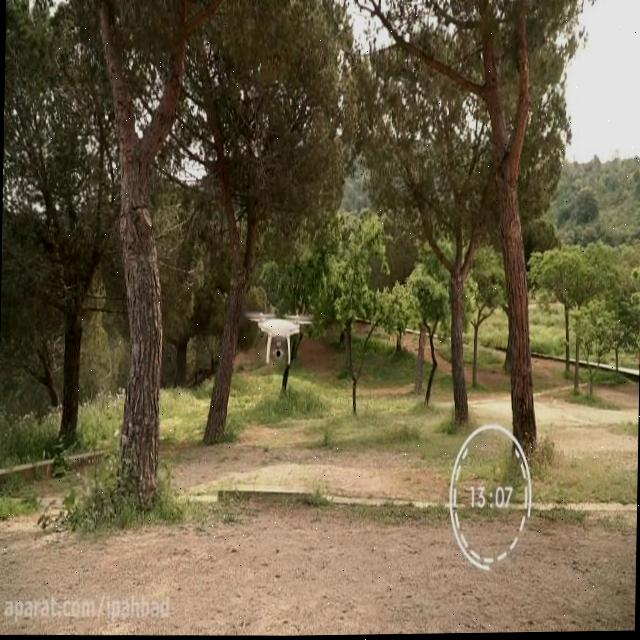drone: (242, 307, 314, 367)
